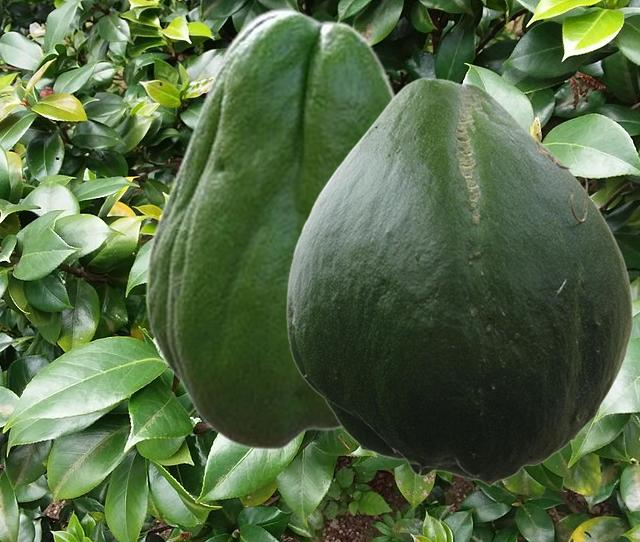sayote: (286, 77, 632, 486), (145, 8, 397, 450)
